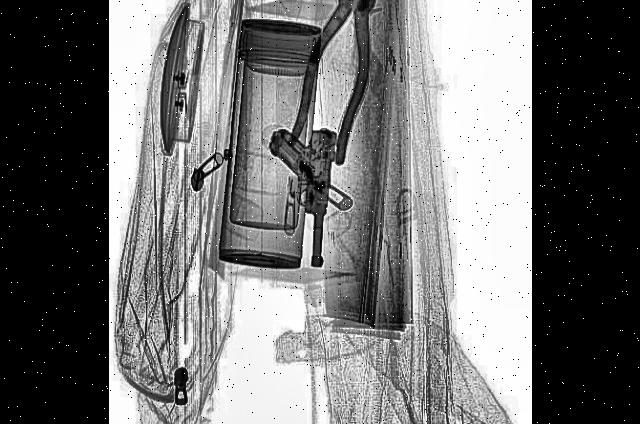Gun: (261, 119, 341, 268)
Pliers: (290, 0, 405, 170)
